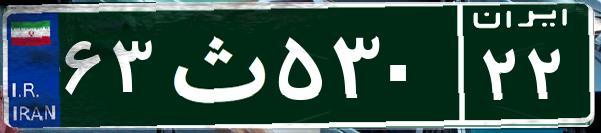0: (385, 28, 445, 110)
2: (475, 38, 525, 113), (525, 38, 570, 115)
3: (330, 28, 385, 110), (110, 28, 158, 105)
5: (273, 28, 330, 110)
6: (57, 26, 110, 107)
ث: (158, 15, 273, 115)
